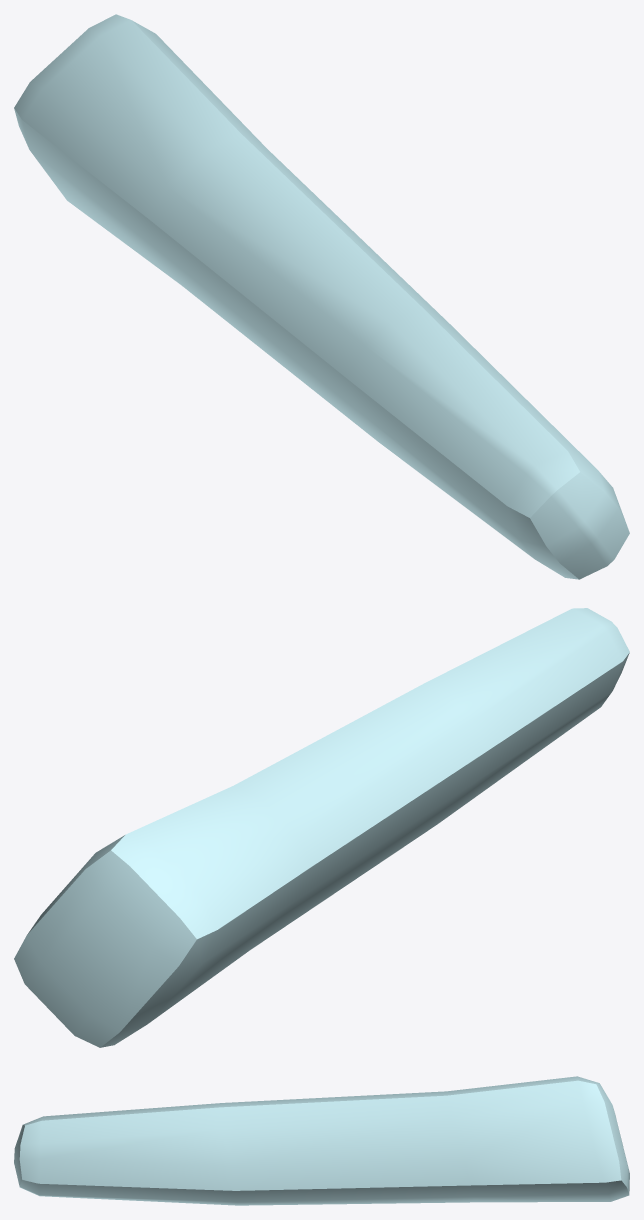
Rendered from Fries02.fbx.
3 renders of one model, top to bottom at view 1: azimuth 30°, elevation 25°; view 2: azimuth 150°, elevation 25°; view 3: azimuth 270°, elevation 25°, orthographic. The views are drawn at different scales.
Visible parts, largest first — view 1: Fries02; view 2: Fries02; view 3: Fries02.
Boxes of the visible parts, left/top/right/bottom form: Fries02: left=14, top=14, right=629, bottom=579; Fries02: left=14, top=608, right=629, bottom=1047; Fries02: left=14, top=1076, right=629, bottom=1205.
Size of the model in its own units: 0.0286 by 0.0305 by 0.1349.
